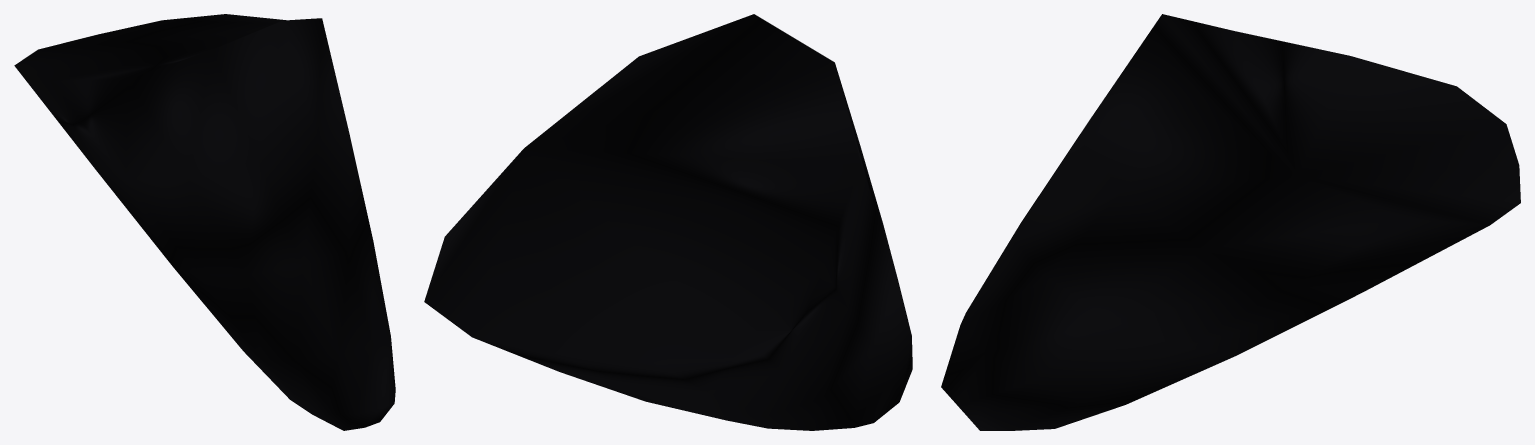
Rendered from pierna1ZIM.obj.
3 renders of one model, left to right at view 1: azimuth 30°, elevation 25°; view 2: azimuth 150°, elevation 25°; view 3: azimuth 270°, elevation 25°, orthographic. The views are drawn at different scales.
Parts seen in each view (by area): view 1: PIERNA_1; view 2: PIERNA_1; view 3: PIERNA_1.
Boxes of the visible parts, bbox=[...] form: PIERNA_1: bbox=[14, 14, 395, 430]; PIERNA_1: bbox=[424, 14, 912, 430]; PIERNA_1: bbox=[941, 14, 1520, 430].
Size of the model in its own units: 0.0561 by 0.0724 by 0.0978.
1 material, 1 textured.
